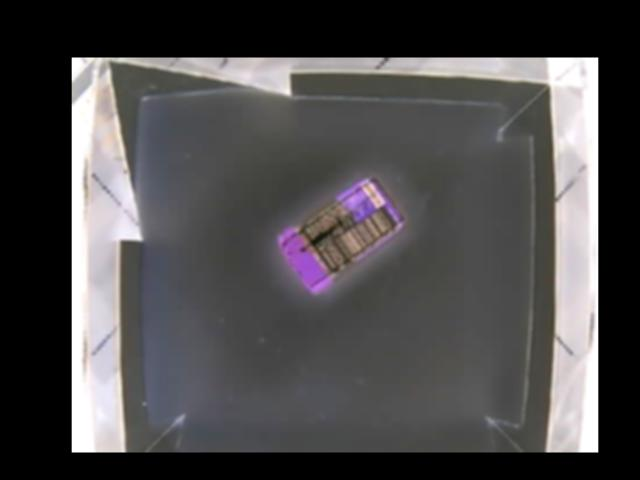Bottle: (278, 176, 408, 294)
